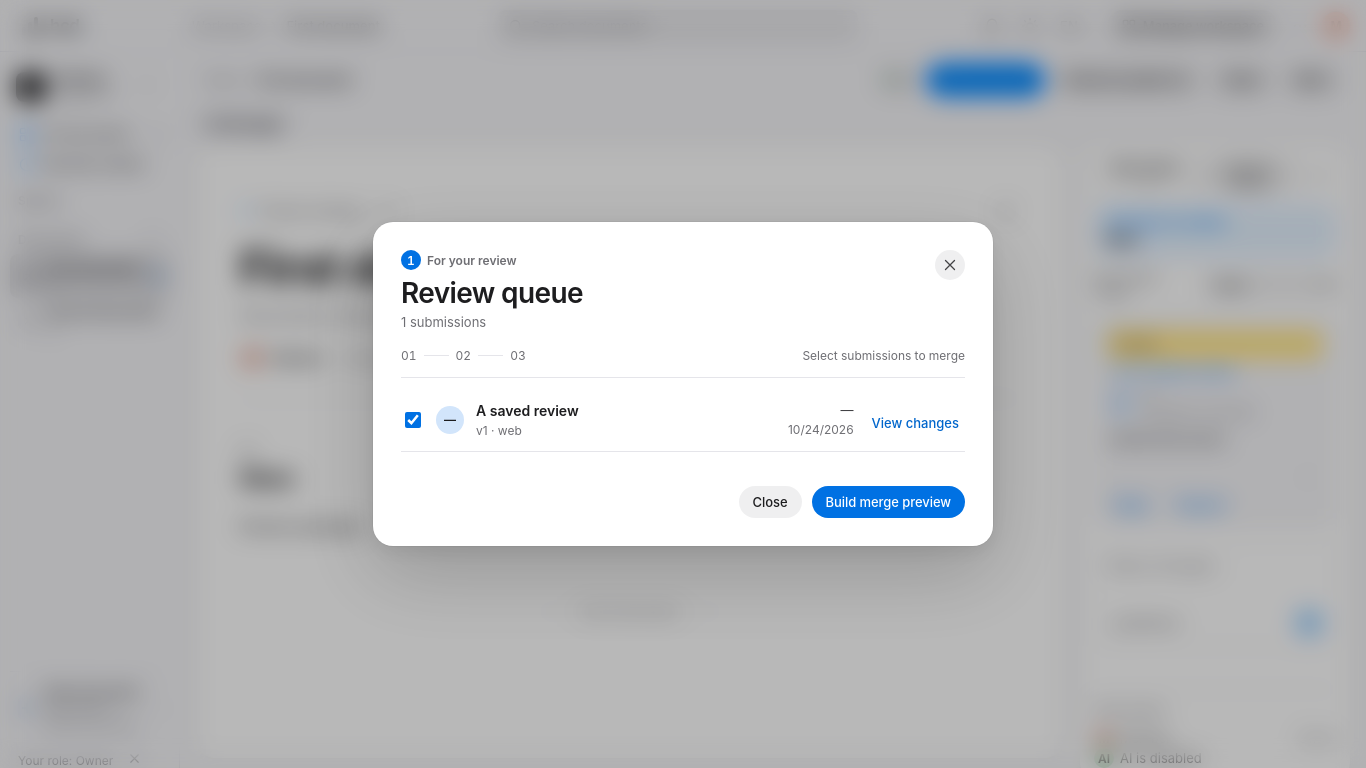
workspace navigation and requests › C2 puts a newly saved preview in the URL so refresh can restore it
The width and height of the screenshot is (1366, 768).
Click the button "Build merge preview": (888, 502) [812,486,965,518]
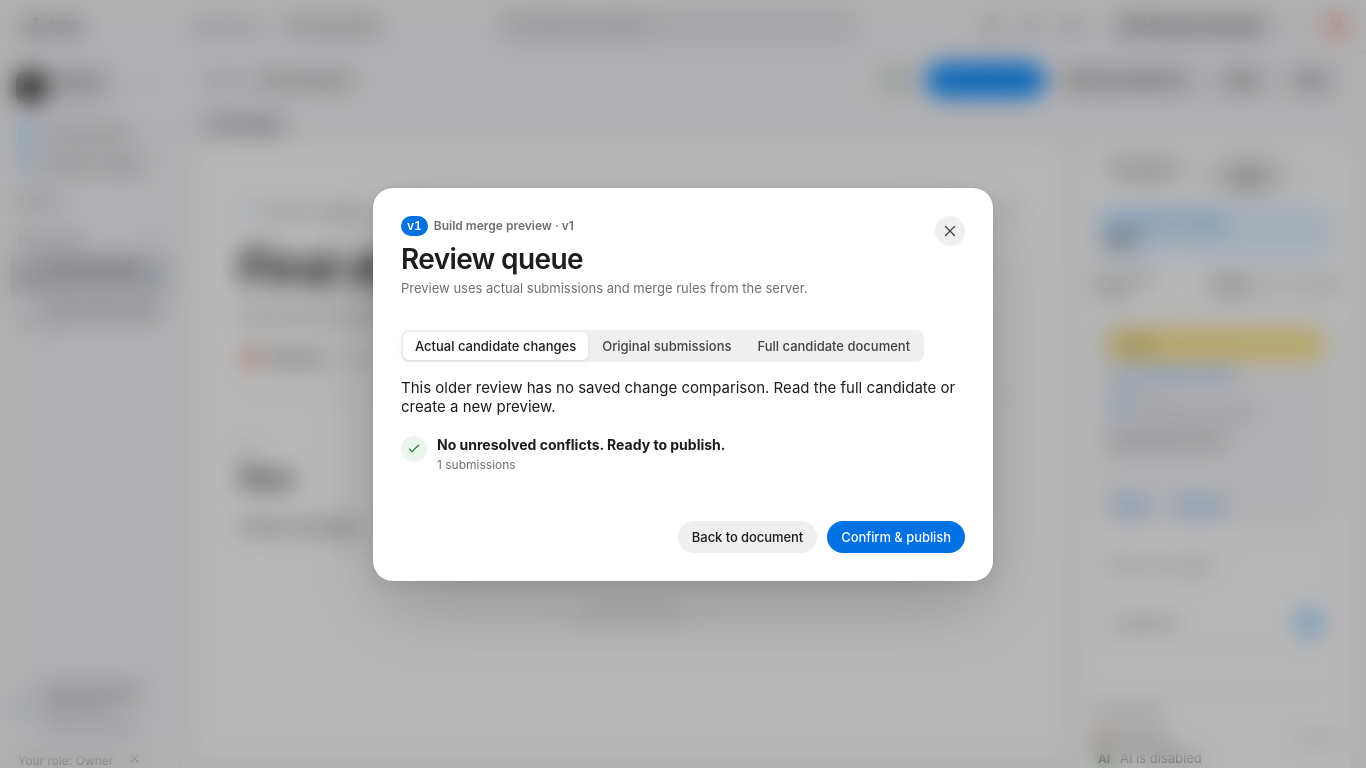
Expected: the element that starts with "Actual candidate changes" is shown, [401,296,965,496]
